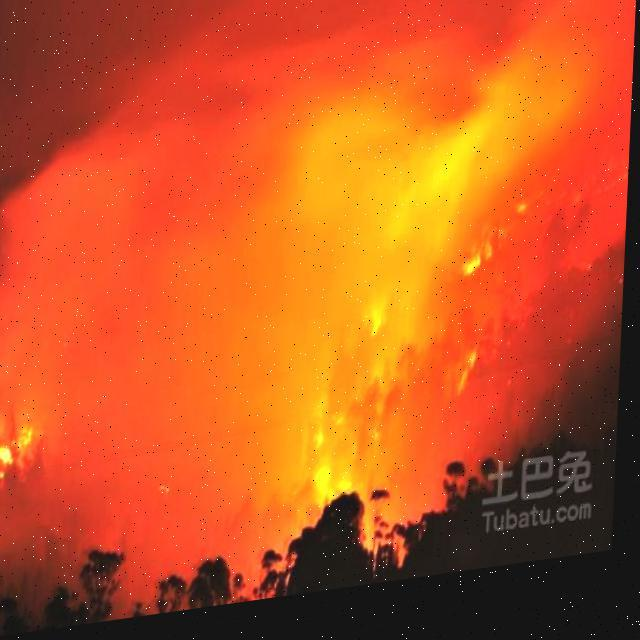Fire: (304, 416, 396, 520), (0, 414, 47, 515), (449, 358, 486, 413), (461, 246, 494, 300), (364, 308, 395, 352)
